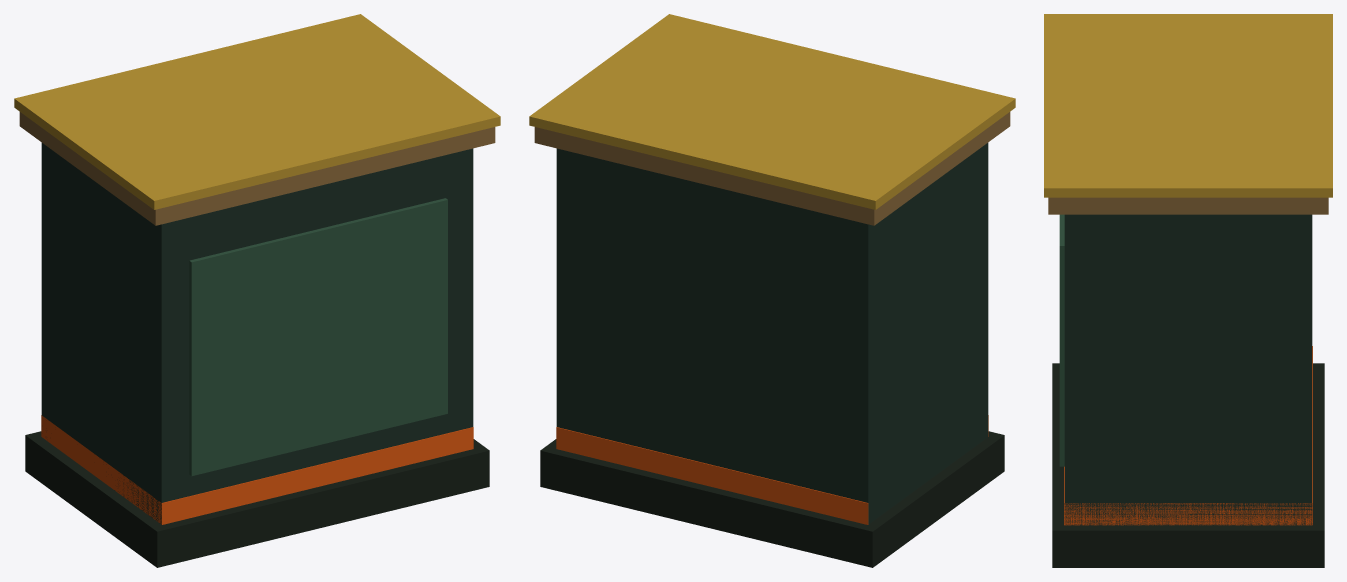
The model's file is specials-podium.glb.
The picture shows the model from 3 angles, left to right: view 1: azimuth 30°, elevation 25°; view 2: azimuth 150°, elevation 25°; view 3: azimuth 270°, elevation 25°; orthographic projection. The views are drawn at different scales.
Visible parts, largest first — view 1: body, body_inset, top_edge, plinth, accent_band, top; view 2: body, top_edge, plinth, top, accent_band; view 3: body, top_edge, plinth, accent_band, top, body_inset.
Part boxes in pixels (x1,y1,x2,y2): body: (41,143,473,524); body_inset: (189,198,447,475); top_edge: (14,14,500,209); plinth: (25,431,489,567); accent_band: (41,415,473,524); top: (19,112,495,225); body: (556,143,988,524); top_edge: (529,14,1015,209); plinth: (540,431,1004,567); top: (534,112,1010,225); accent_band: (556,415,988,524); body: (1064,214,1312,525); top_edge: (1044,14,1332,197); plinth: (1052,363,1324,567); accent_band: (1064,346,1312,525); top: (1048,197,1328,214); body_inset: (1059,214,1064,466).
Bounding box in the file's own units: 1 × 1.03 × 0.7.
